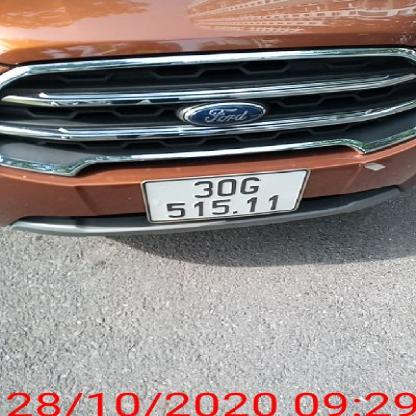biensoxe: (133, 171, 311, 224)
